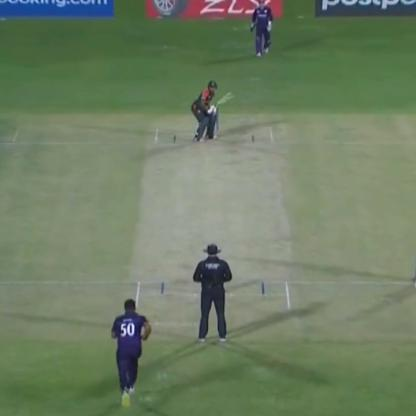bat: (208, 93, 237, 113)
pitch: (136, 120, 302, 318)
